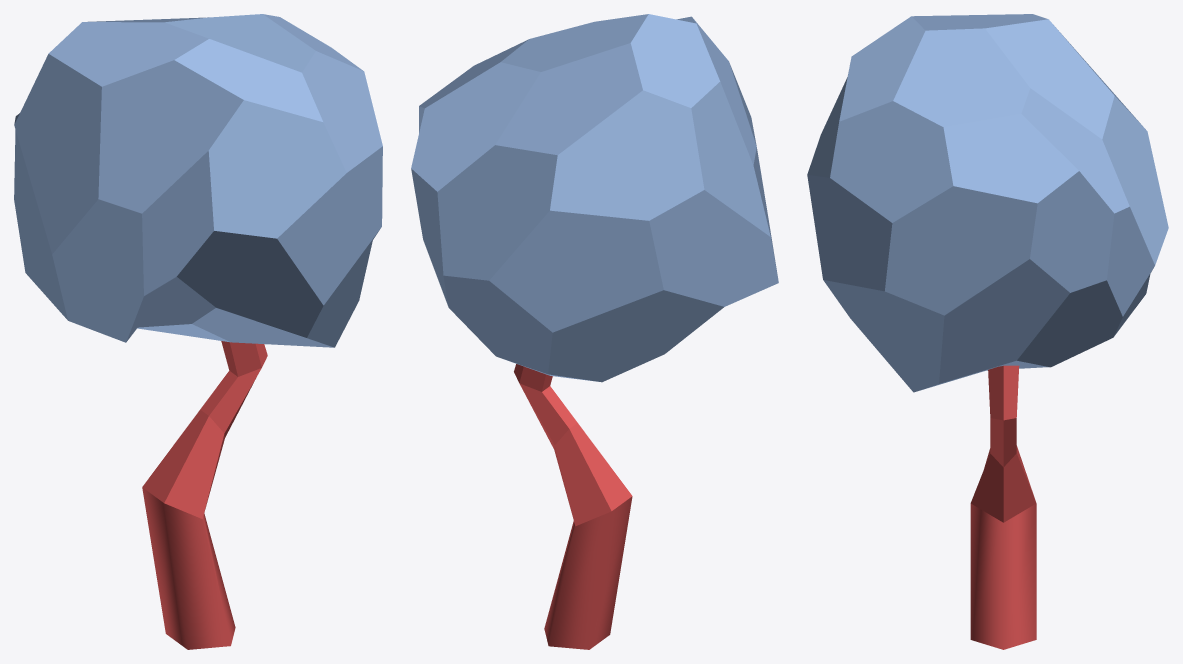
Rendered from tree.obj.
The picture shows the model from 3 angles, left to right: view 1: azimuth 30°, elevation 25°; view 2: azimuth 150°, elevation 25°; view 3: azimuth 270°, elevation 25°; orthographic projection. The views are drawn at different scales.
Parts seen in each view (by area): view 1: Hedra001, Cylinder002; view 2: Hedra001, Cylinder002; view 3: Hedra001, Cylinder002.
Part boxes in pixels (left/top/right/bottom): Hedra001: left=14, top=14, right=382, bottom=347; Cylinder002: left=142, top=341, right=267, bottom=649; Hedra001: left=411, top=14, right=778, bottom=382; Cylinder002: left=514, top=364, right=632, bottom=649; Hedra001: left=807, top=14, right=1168, bottom=392; Cylinder002: left=970, top=365, right=1036, bottom=649.
Bounding box in the file's own units: 65.79 × 121 × 67.59.
